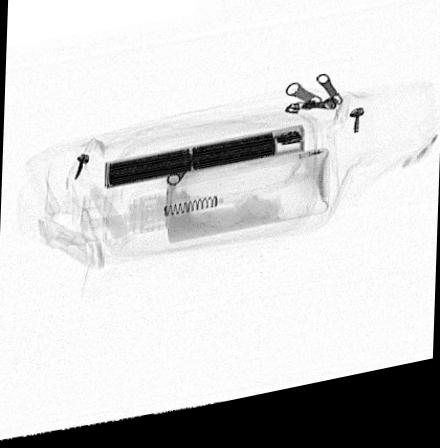Powerbank: (103, 137, 306, 193)
